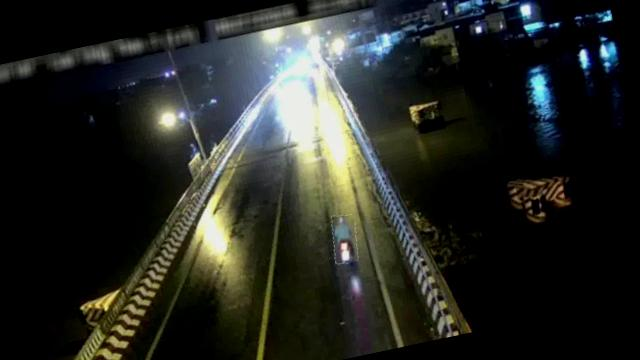Bike: (328, 212, 362, 264)
